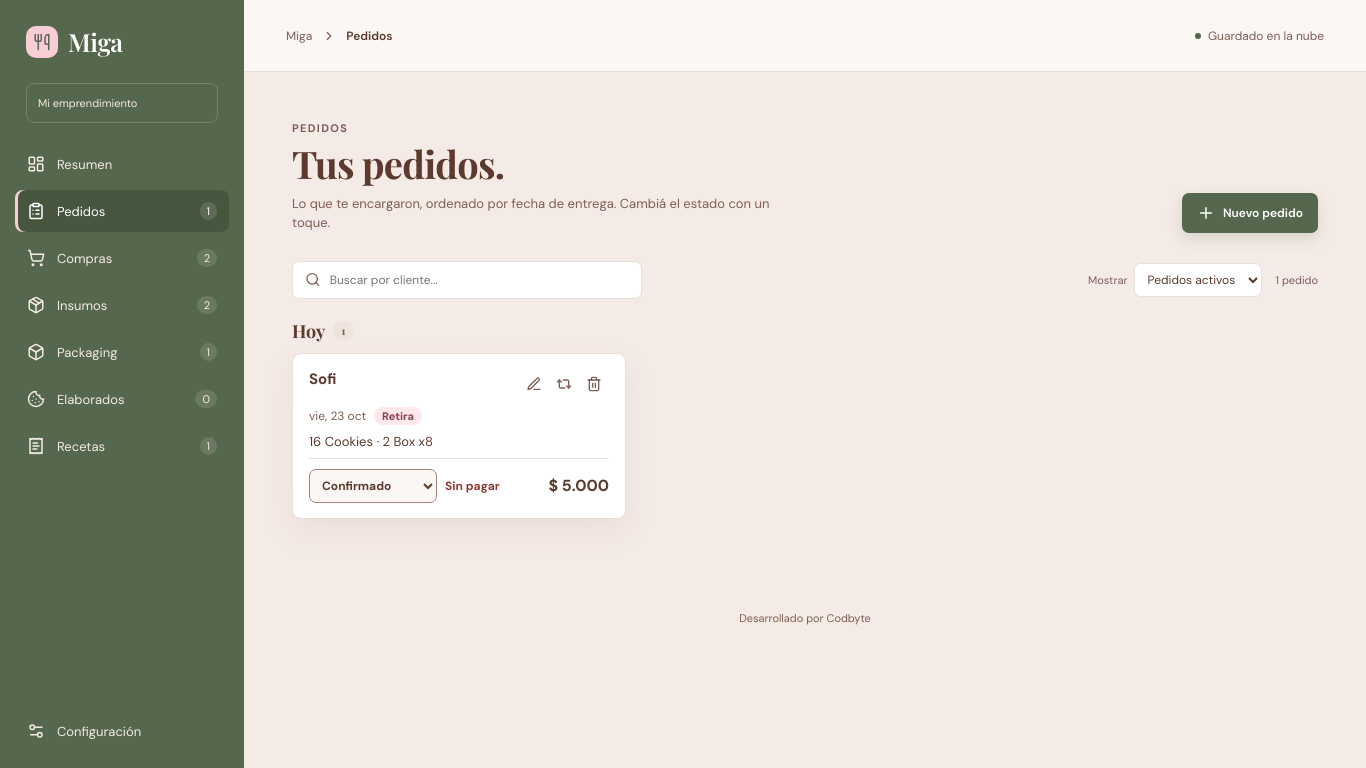
Scenario: Order stock › lets her update the stock right there and try again
Select "En preparación" in the dropdown named "Estado del pedido de Sofi" at (373, 486), box x1=309 y1=469 x2=437 y2=503
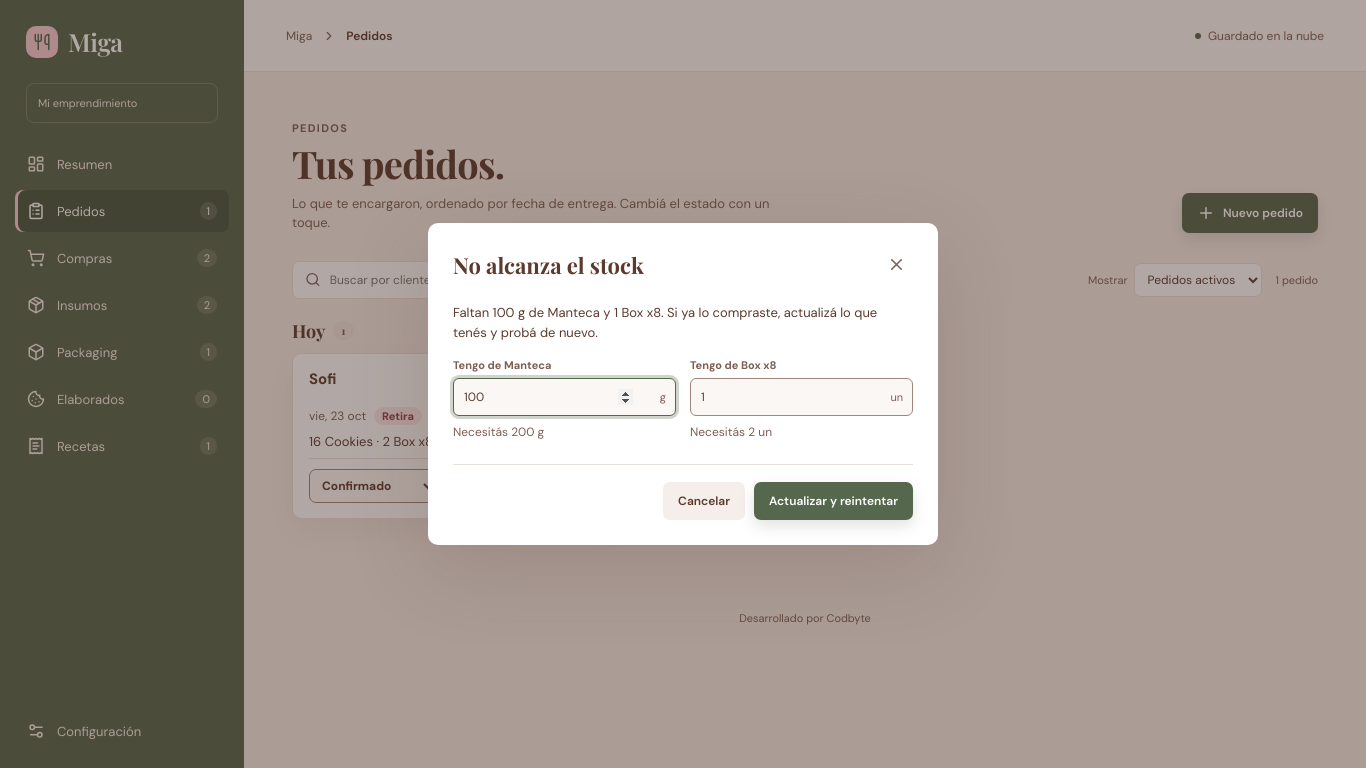
Expected: the number field labelled "Tengo de Manteca" holds "100"
Expected: the text "Necesitás 200 g" is shown, x1=453 y1=424 x2=544 y2=440
Replace the text in the number field labelled "Tengo de Manteca" with "1000" at (564, 397), box x1=453 y1=378 x2=676 y2=416
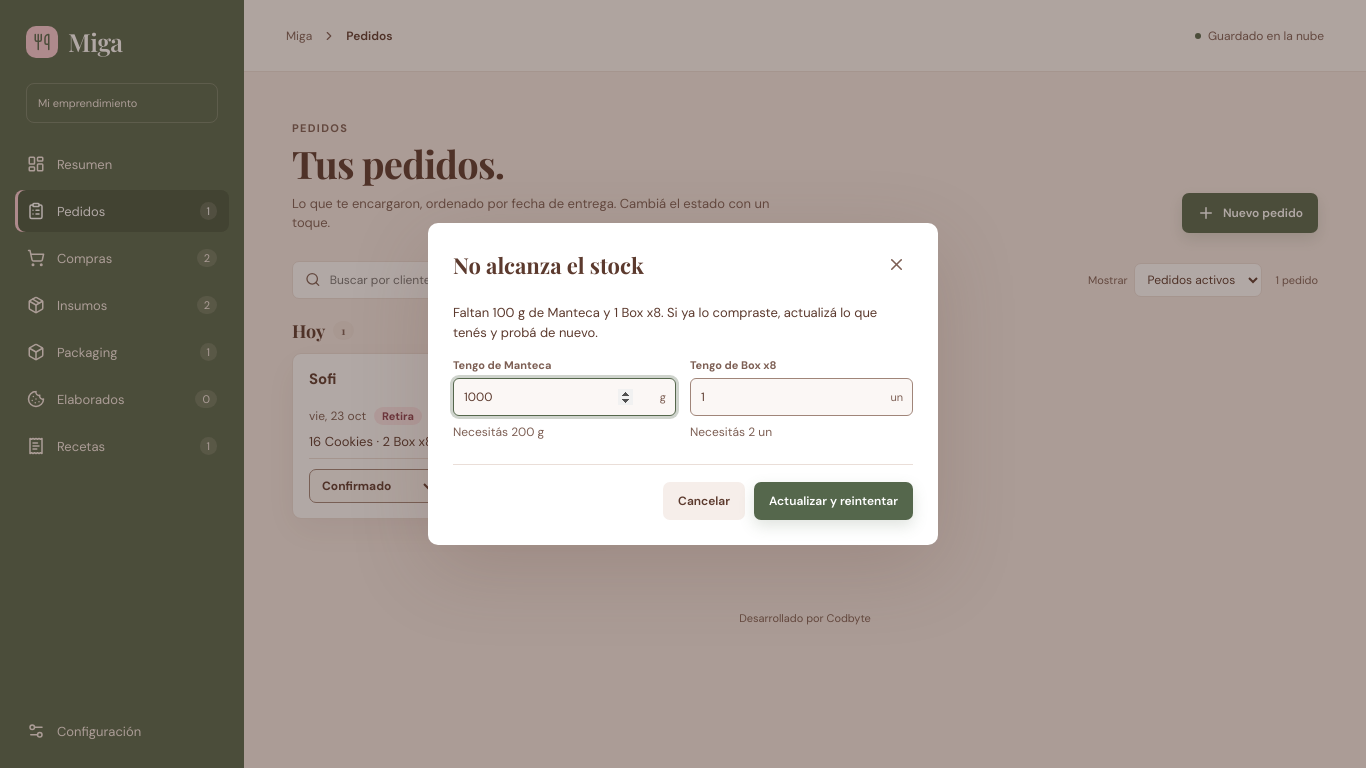
Replace the text in the number field labelled "Tengo de Box x8" with "10" at (802, 397), box x1=690 y1=378 x2=913 y2=416
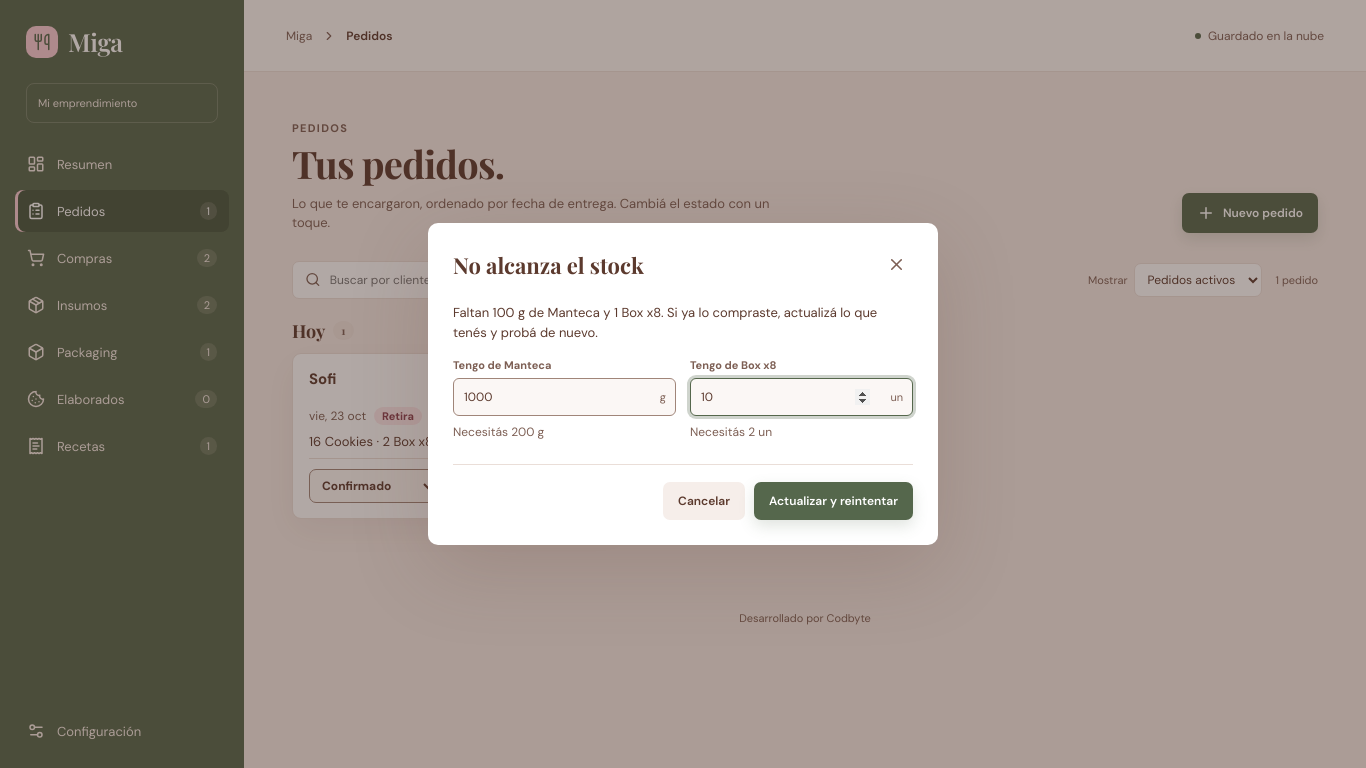
Click the button "Actualizar y reintentar" at (834, 501), box x1=754 y1=482 x2=913 y2=520
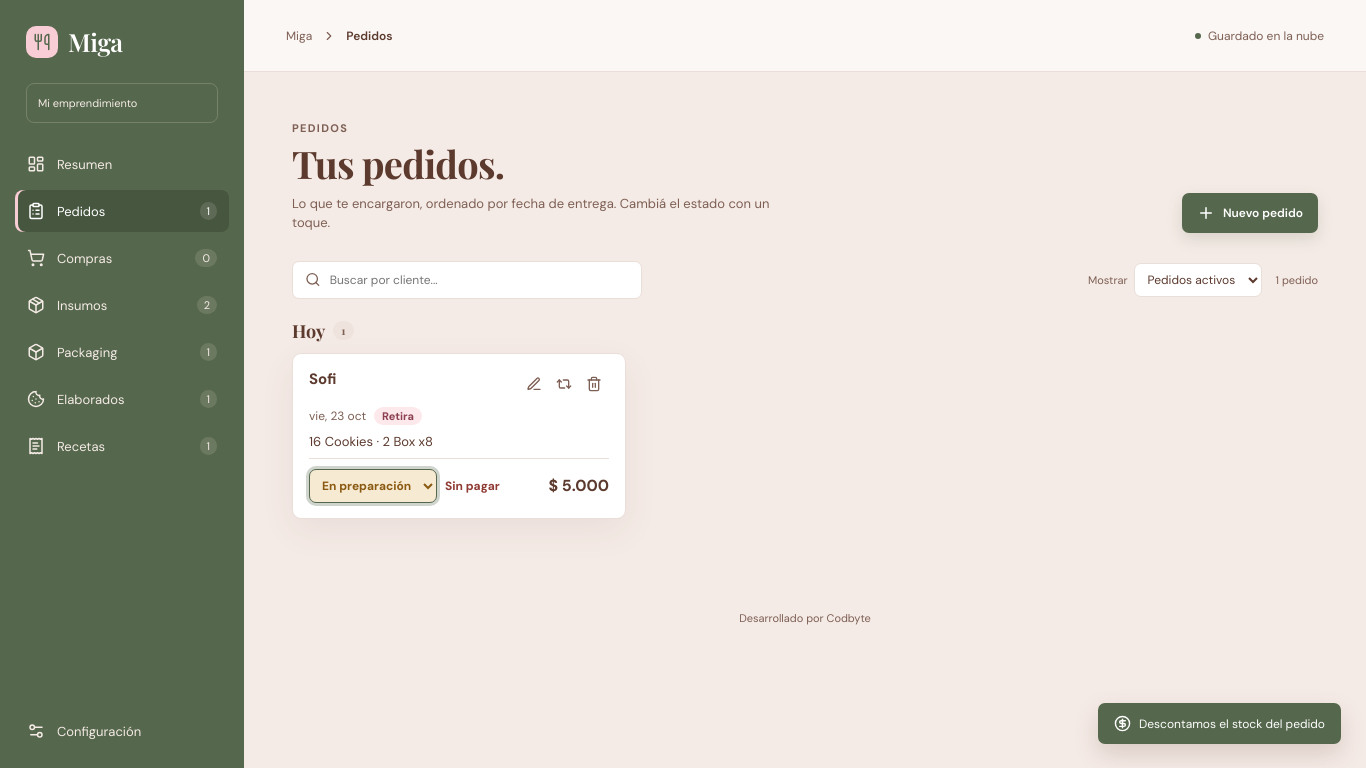
Expected: the dialog is gone
